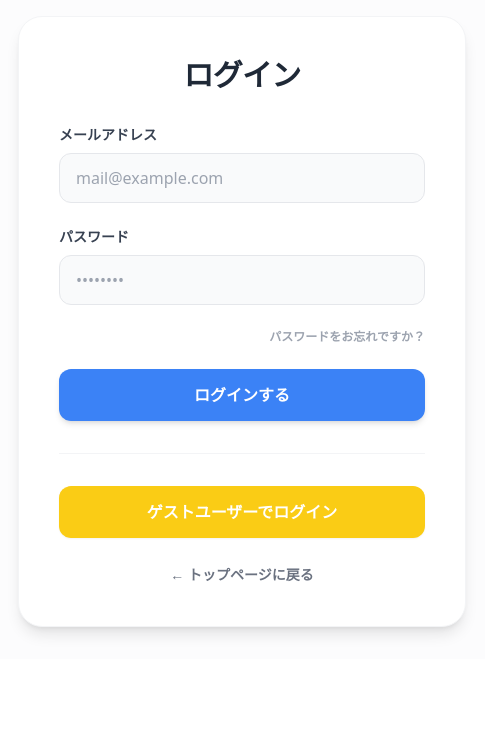
Scenario: Login Component › パスワードが間違っている場合、エラーメッセージが表示されること
The width and height of the screenshot is (485, 729).
Type "test@example.com" into the field labelled "メールアドレス" at (242, 178), box [59,153,425,203]
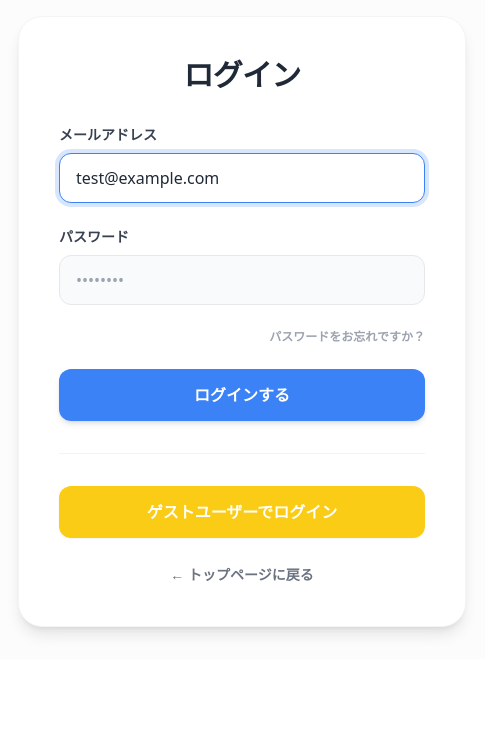
Type "wrongpassword" into the password field labelled "パスワード" at (242, 280), box [59,255,425,305]
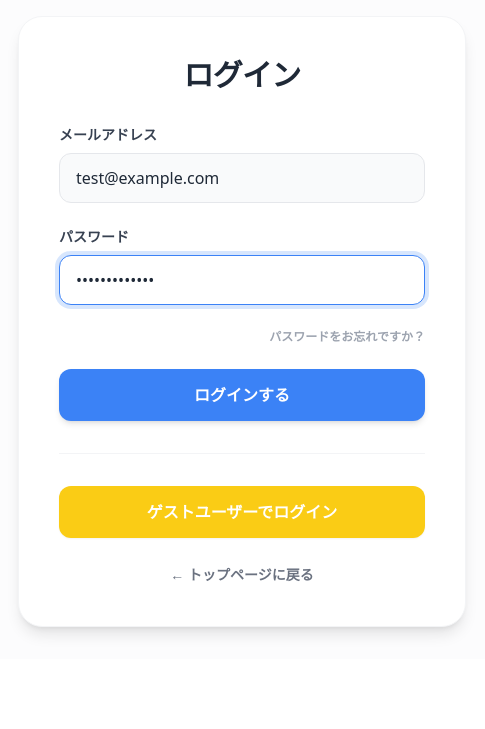
Submit the form "ログインする", box [59,125,425,421]
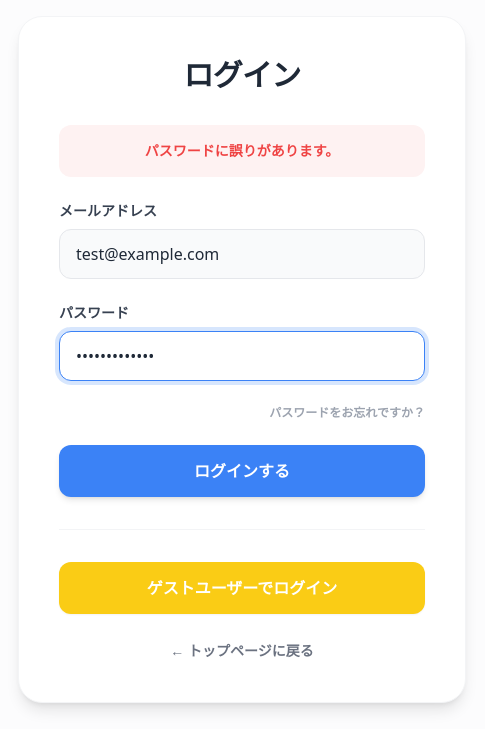
Expected: the text "パスワードに誤りがあります。" is shown, [59,125,425,177]
